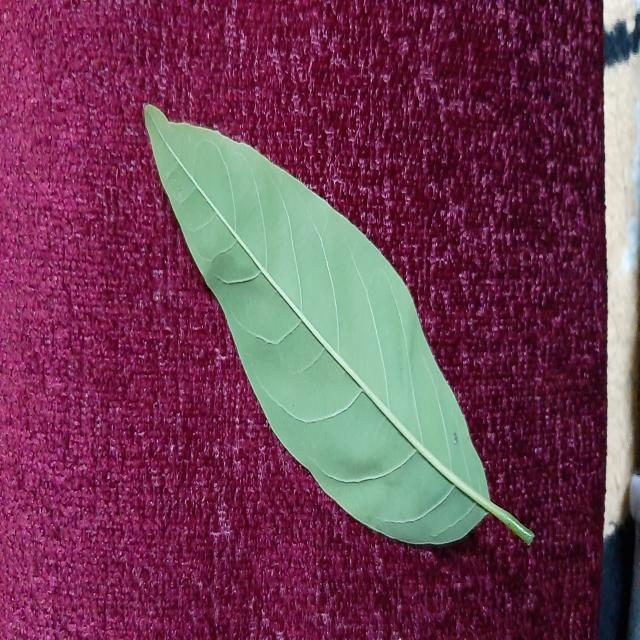leaf: (141, 101, 534, 548)
